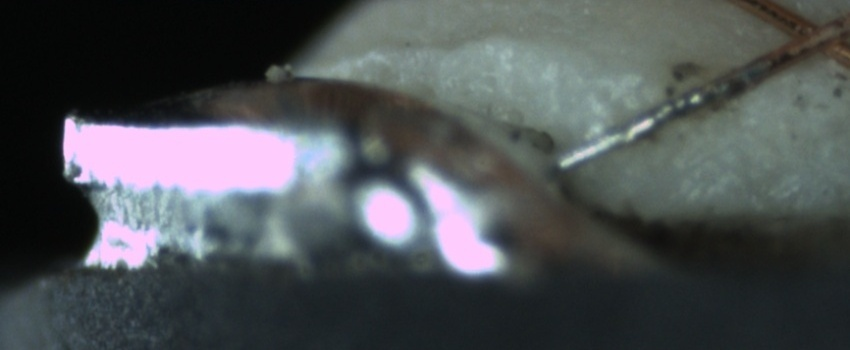CL: (770, 3, 847, 66)
TS: (550, 55, 768, 169)
TTCW: (547, 41, 796, 167)
